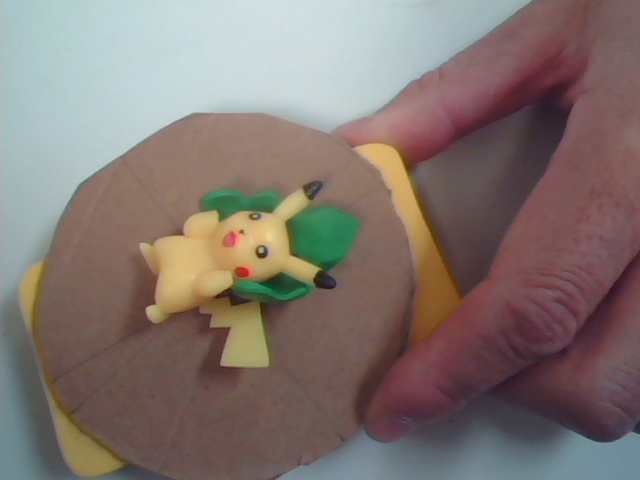pikachu: (121, 138, 374, 391)
